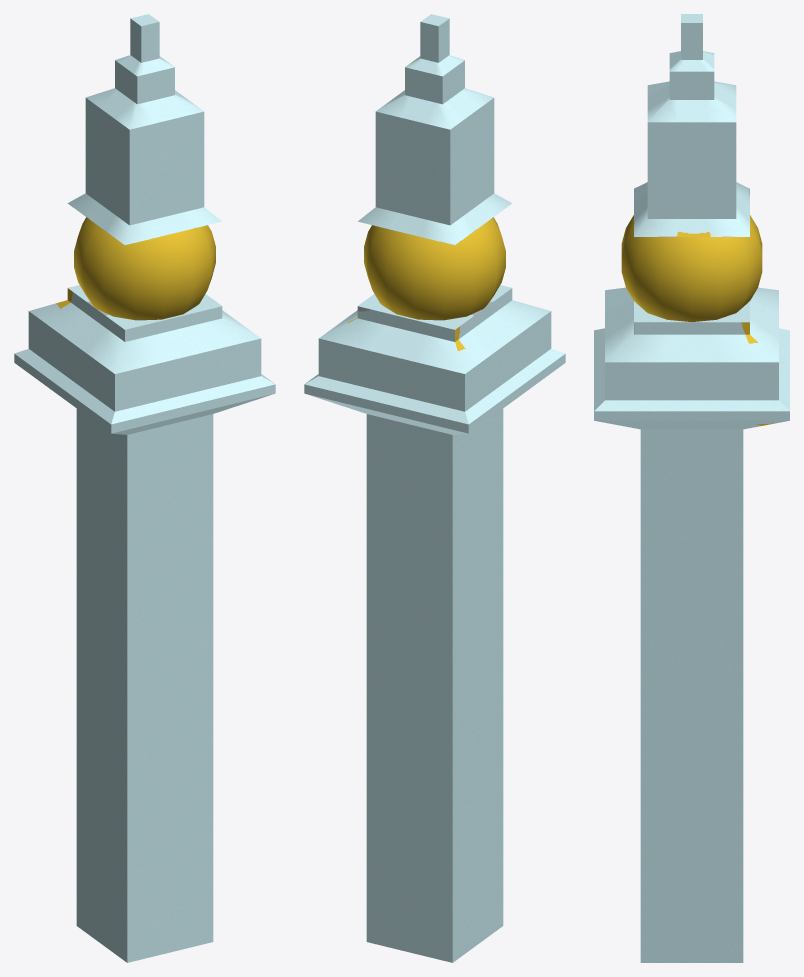
Rendered from building8.glb.
3 renders of one model, left to right at view 1: azimuth 30°, elevation 25°; view 2: azimuth 150°, elevation 25°; view 3: azimuth 270°, elevation 25°, orthographic.
Visible parts, largest first — view 1: building8; view 2: building8; view 3: building8.
Boxes of the visible parts, box(x1,y1,x2,y2) form: building8: box(14, 14, 275, 962); building8: box(304, 14, 565, 962); building8: box(594, 14, 789, 962).
Bounding box in the file's own units: 0.1343 × 0.7126 × 0.137.
1 material, 1 textured.
